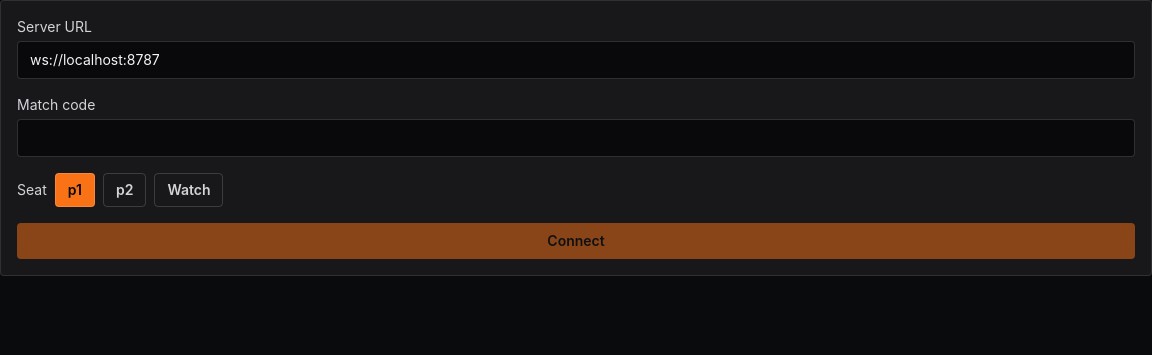
Test case: @opencards/app OnlinePlay › shows Connection closed when the socket closes unexpectedly
Type "room-1" into the field with test id "online-match-code" at (576, 138), box [17,119,1135,157]
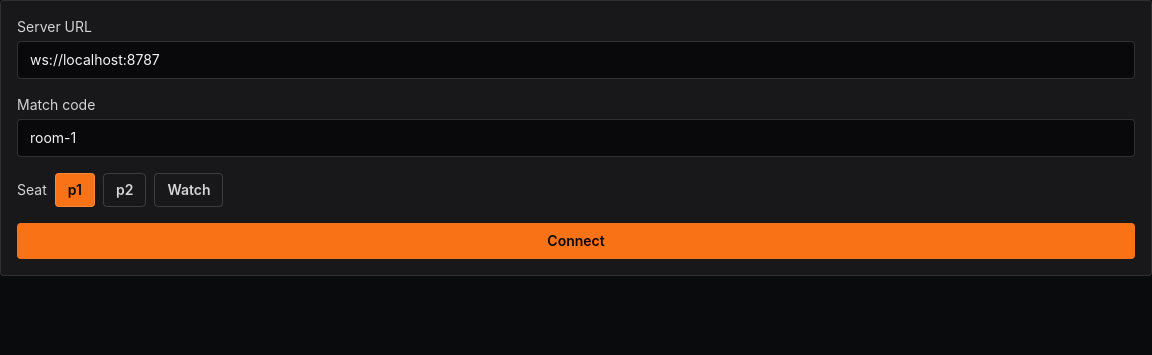
Click the button with test id "online-connect" at (576, 241), box [17,223,1135,259]
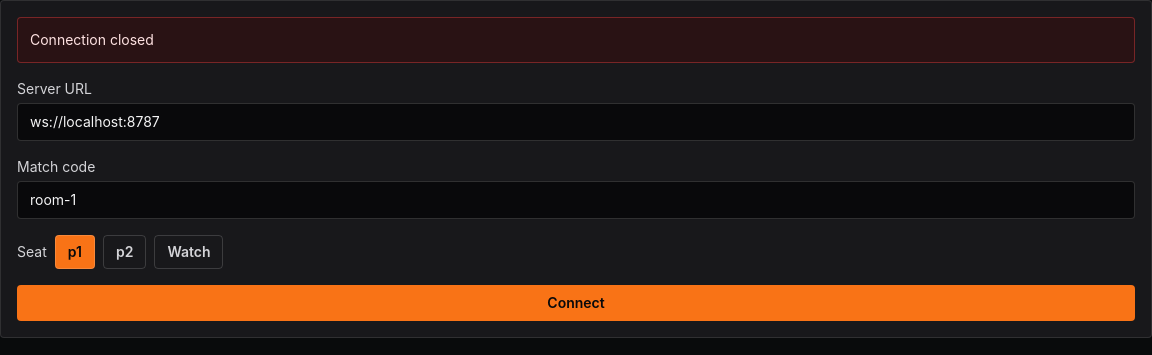
Now the text with test id "online-error" reads "Connection closed", box [30,31,154,48]
